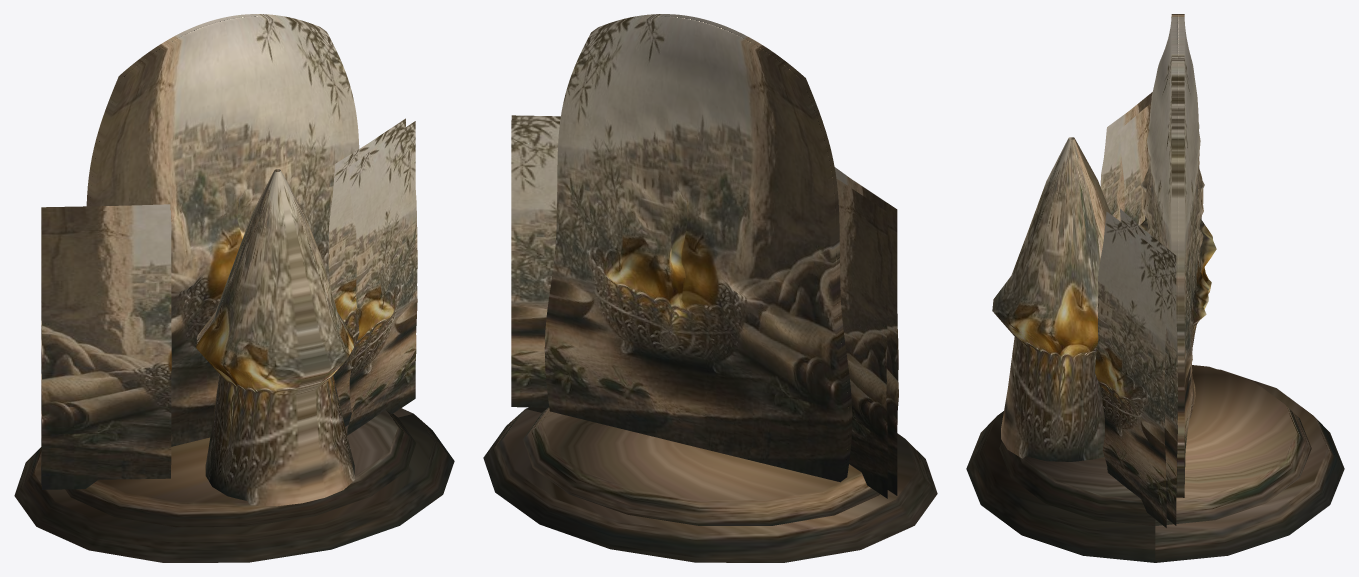
The model's file is the-beginning-of-wisdom-14.glb.
The picture shows the model from 3 angles, left to right: view 1: azimuth 30°, elevation 25°; view 2: azimuth 150°, elevation 25°; view 3: azimuth 270°, elevation 25°; orthographic projection. The views are drawn at different scales.
Visible parts, largest first — view 1: PaintingSculptureMonument; view 2: PaintingSculptureMonument; view 3: PaintingSculptureMonument.
Boxes of the visible parts, box(x1,y1,x2,y2) form: PaintingSculptureMonument: box(14, 14, 454, 562); PaintingSculptureMonument: box(483, 14, 937, 562); PaintingSculptureMonument: box(966, 14, 1344, 562).
Size of the model in its own units: 2.76 by 2.99 by 2.35.
Materials: 1 (1 with a texture image).
